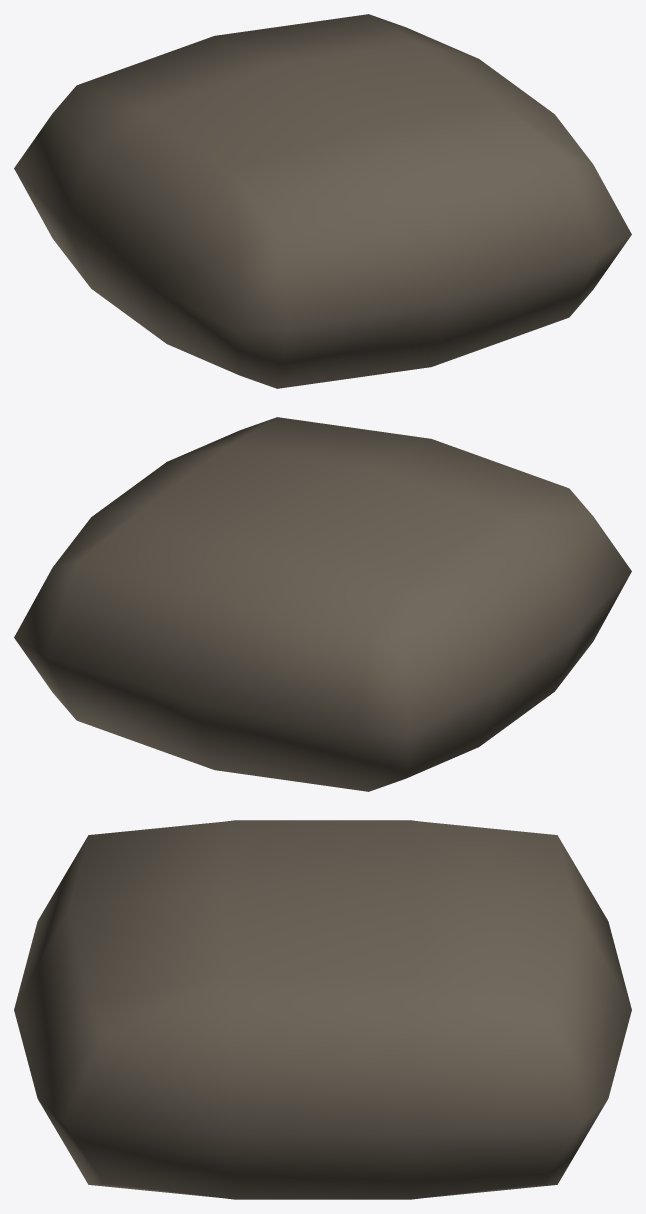
Rendered from 44_prop_cushion2.FBX.
3 renders of one model, top to bottom at view 1: azimuth 30°, elevation 25°; view 2: azimuth 150°, elevation 25°; view 3: azimuth 270°, elevation 25°, orthographic. The views are drawn at different scales.
Visible parts, largest first — view 1: prop_cushion2; view 2: prop_cushion2; view 3: prop_cushion2.
Boxes of the visible parts, box(x1,y1,x2,y2) form: prop_cushion2: box(14, 14, 631, 388); prop_cushion2: box(14, 417, 631, 791); prop_cushion2: box(14, 820, 631, 1199).
Size of the model in its own units: 29.27 by 13.46 by 30.84.
